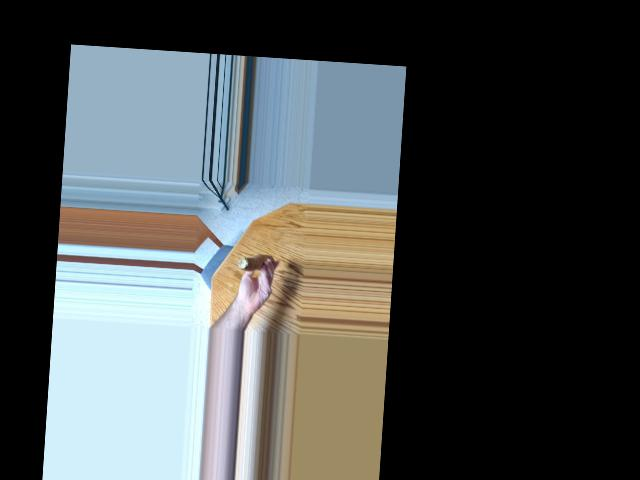sweet_potato: (232, 250, 276, 282)
